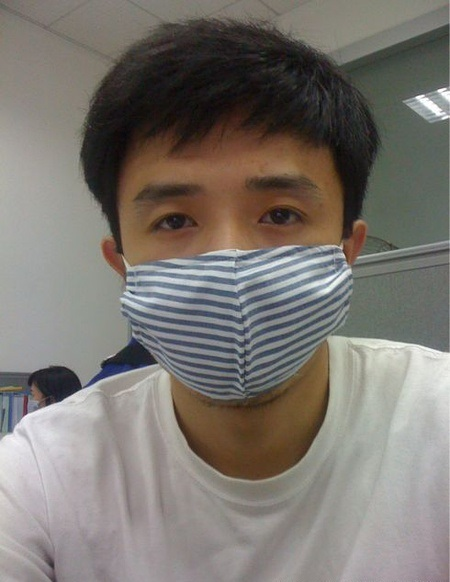face_mask: (126, 95, 345, 429)
